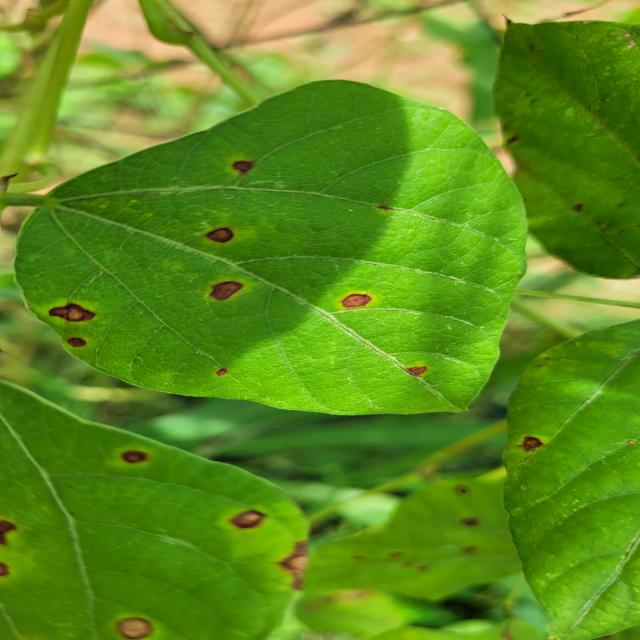Dolicos bean_cercospora leaf spot: (23, 78, 529, 414), (0, 370, 303, 640), (486, 303, 640, 640)
